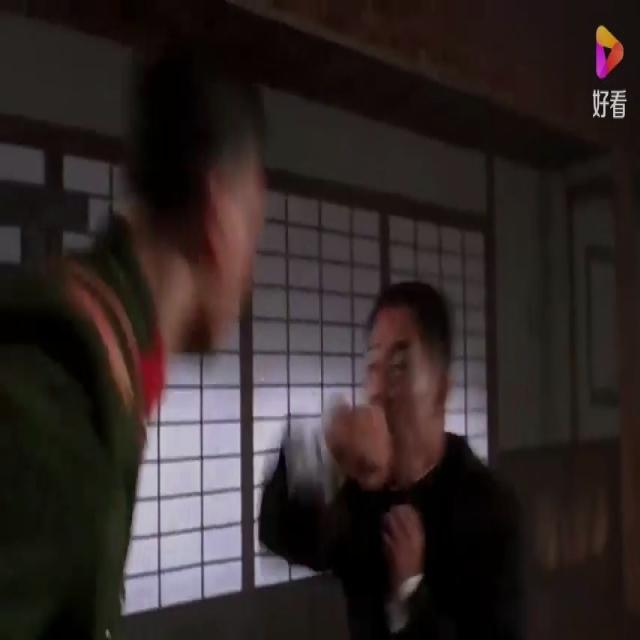fight: (0, 5, 528, 639)
